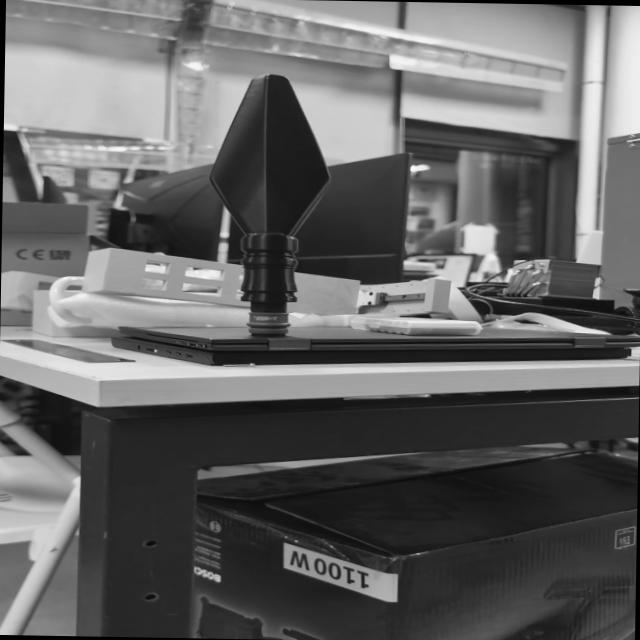base: (238, 308, 302, 341)
